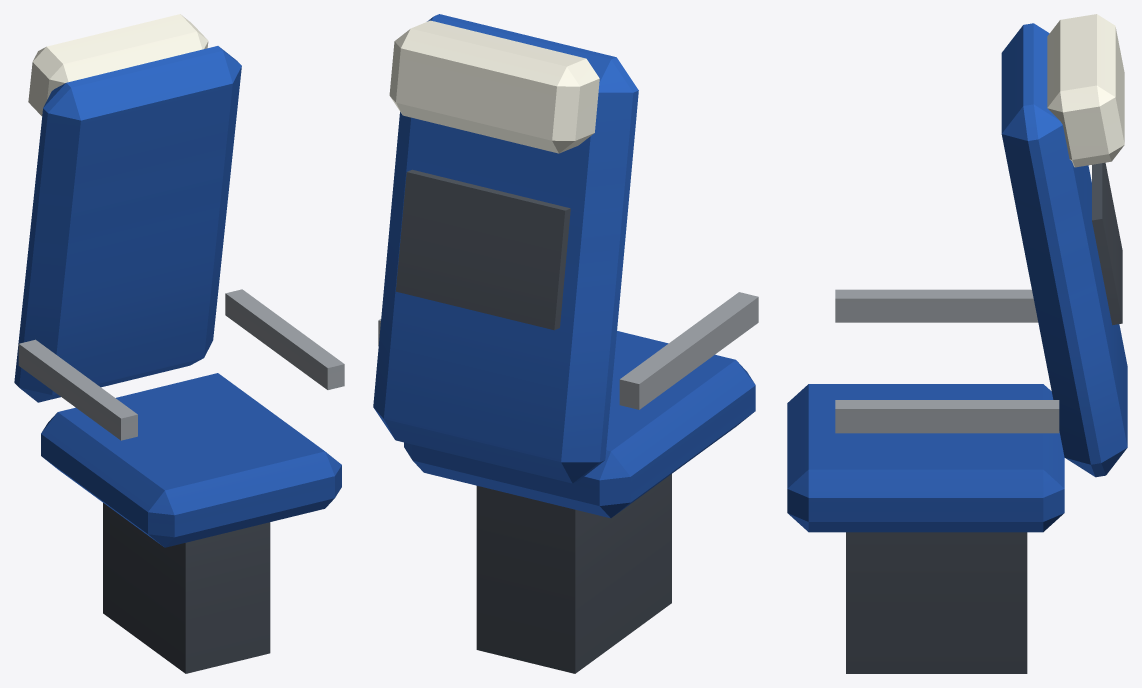
Rendered from Poltrona.fbx.
The picture shows the model from 3 angles, left to right: view 1: azimuth 30°, elevation 25°; view 2: azimuth 150°, elevation 25°; view 3: azimuth 270°, elevation 25°; orthographic projection. The views are drawn at different scales.
Visible parts, largest first — view 1: Poltrona_Malha; view 2: Poltrona_Malha; view 3: Poltrona_Malha.
Part boxes in pixels (x1,y1,x2,y2): Poltrona_Malha: (14, 14, 344, 673); Poltrona_Malha: (373, 14, 758, 673); Poltrona_Malha: (787, 14, 1127, 673).
Size of the model in its own units: 0.53 by 1.24 by 0.6381.
